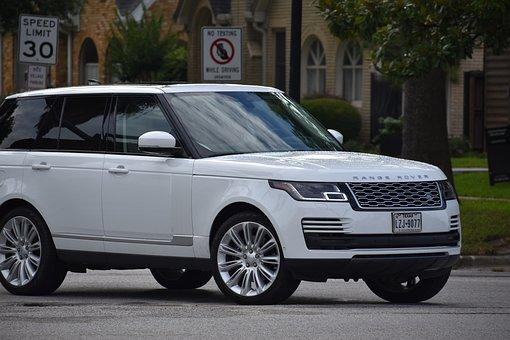range rover: (350, 169, 435, 188)
